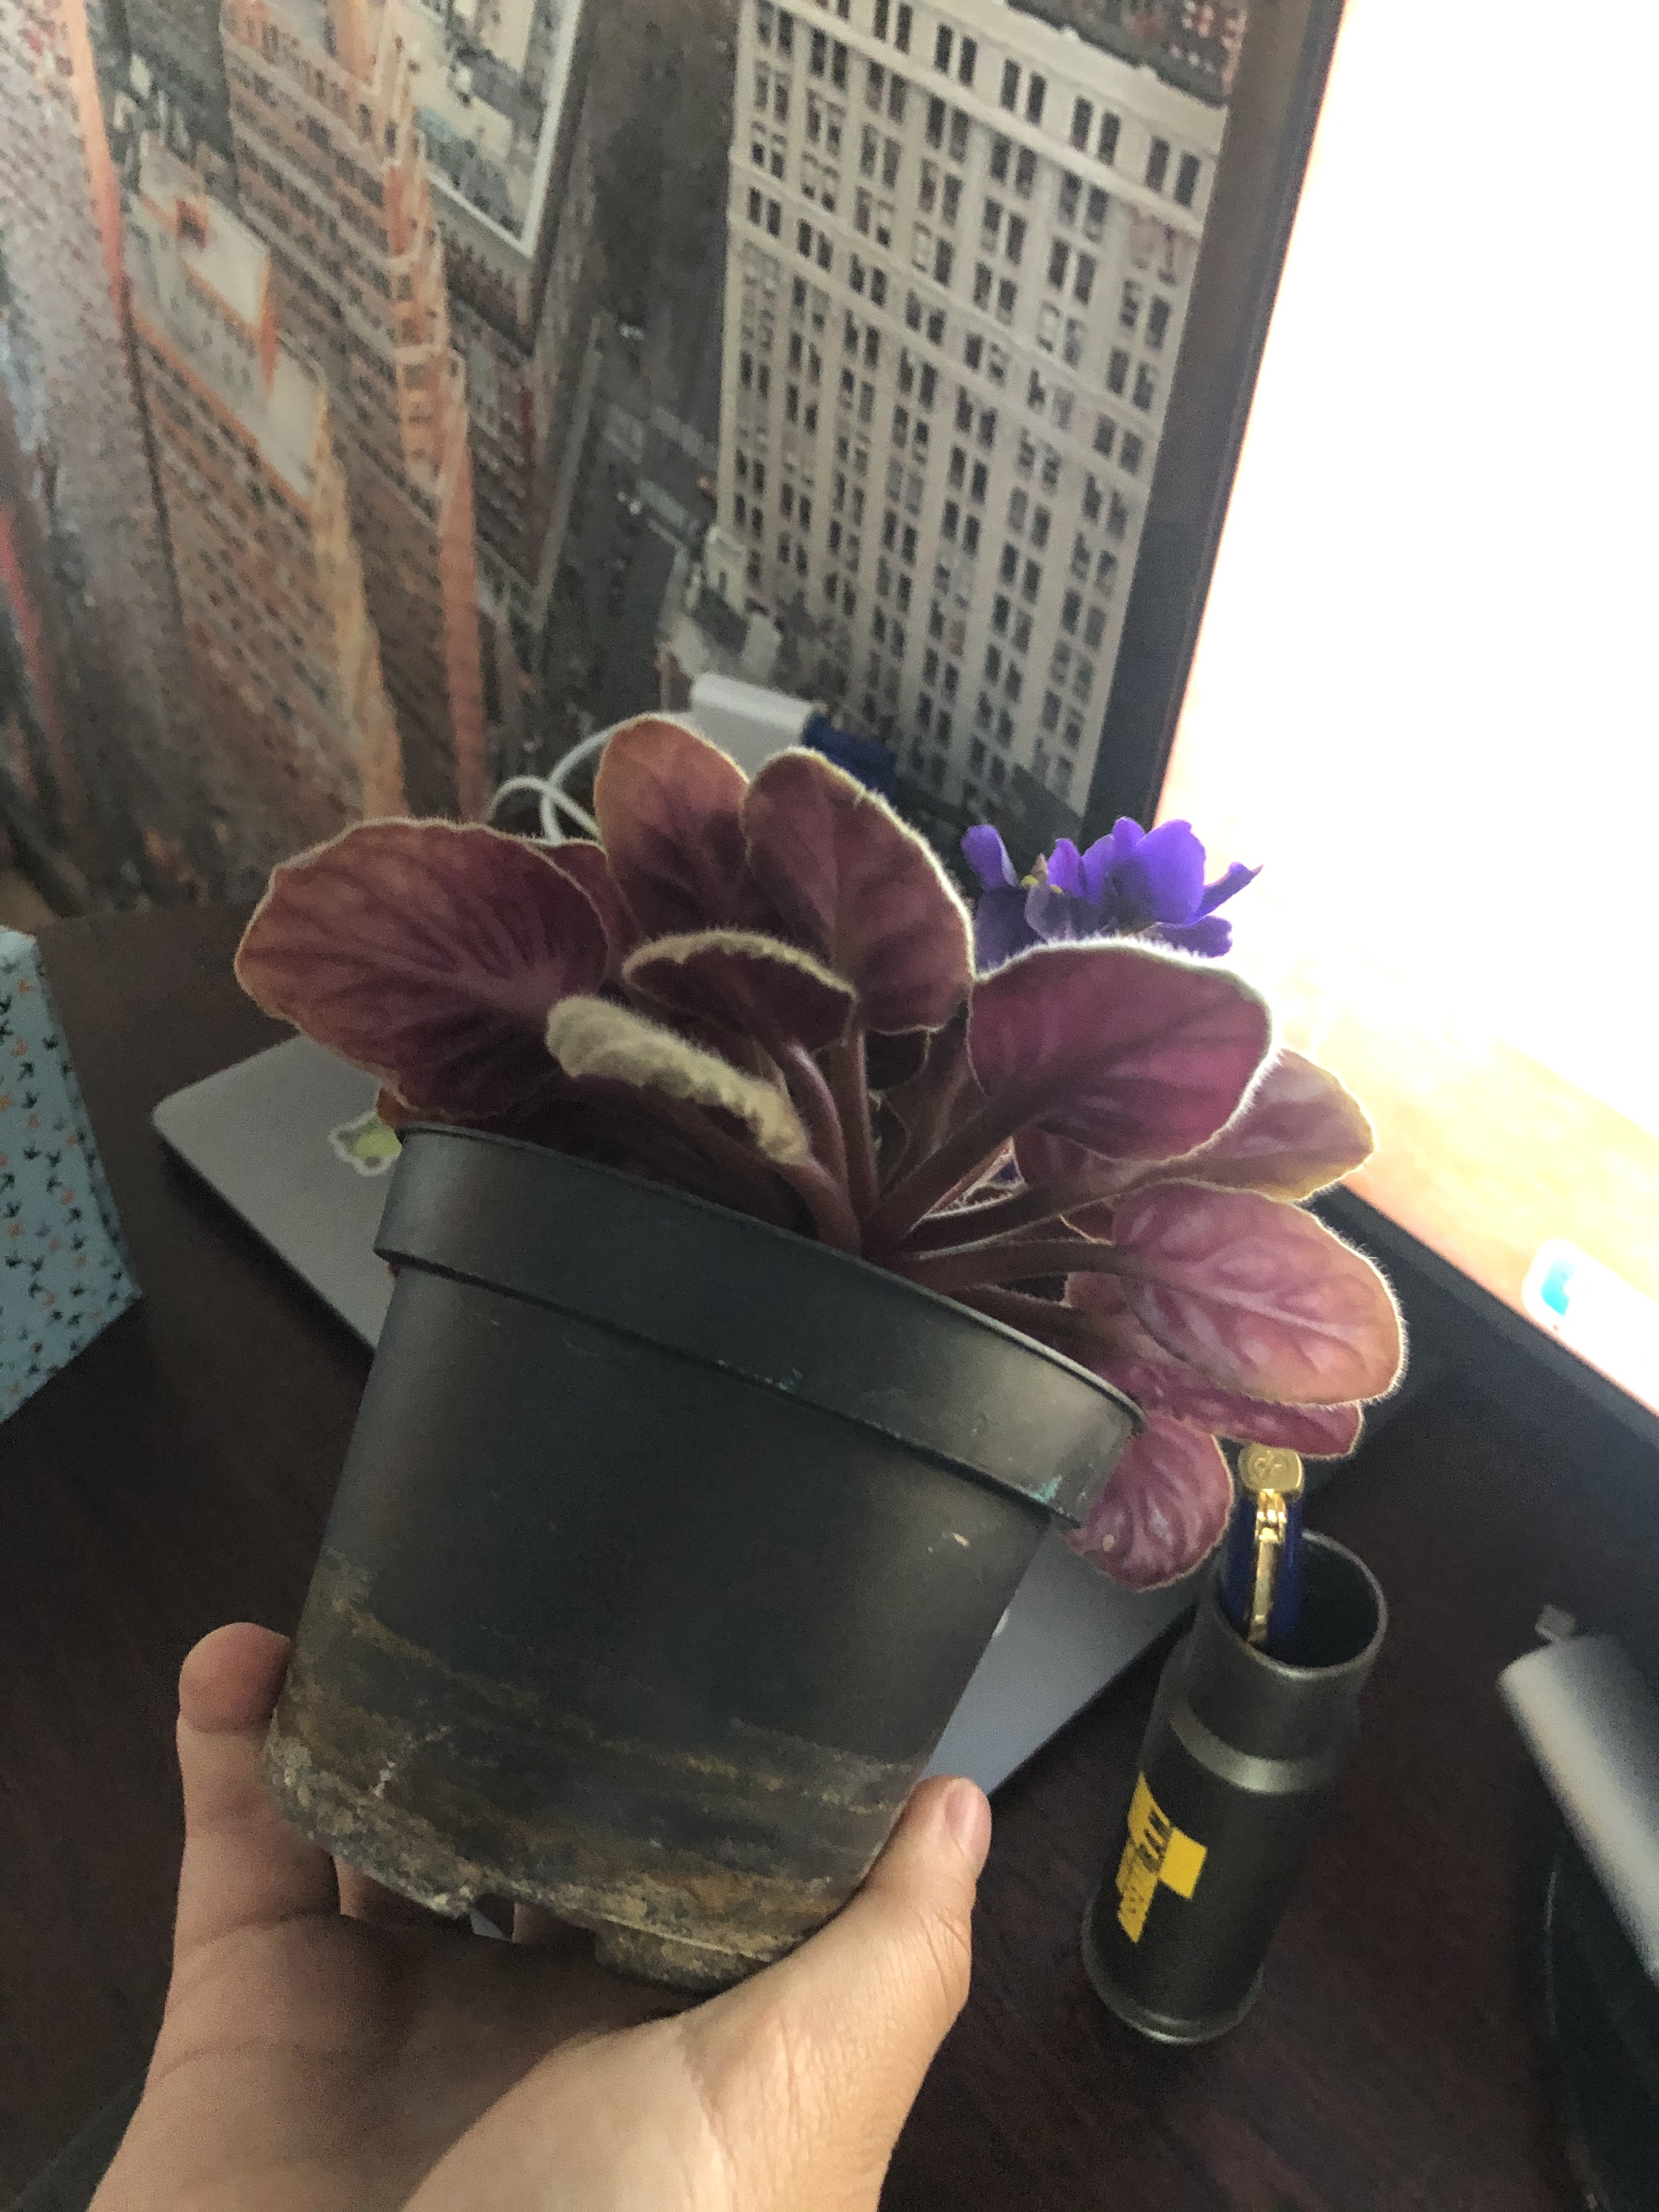ignore: (213, 660, 1405, 1590)
